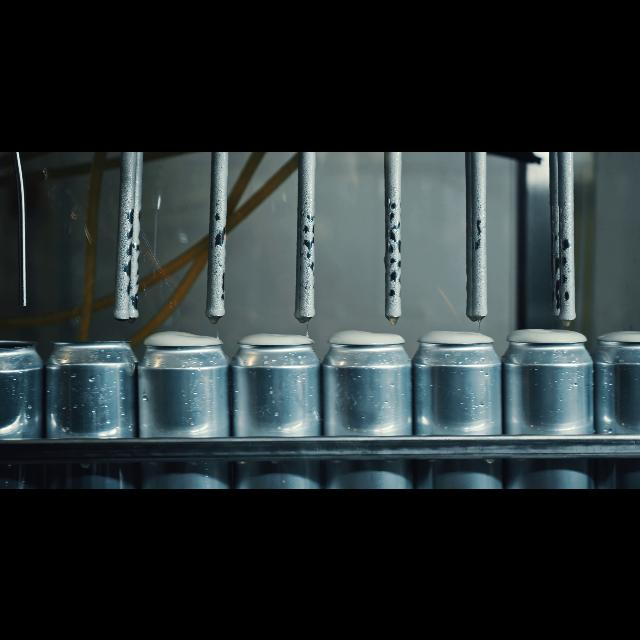empty: (51, 332, 135, 488), (2, 332, 44, 488)
full: (412, 318, 498, 488), (235, 324, 323, 488), (505, 318, 589, 488), (142, 322, 228, 488), (328, 322, 407, 488), (596, 320, 640, 488)
